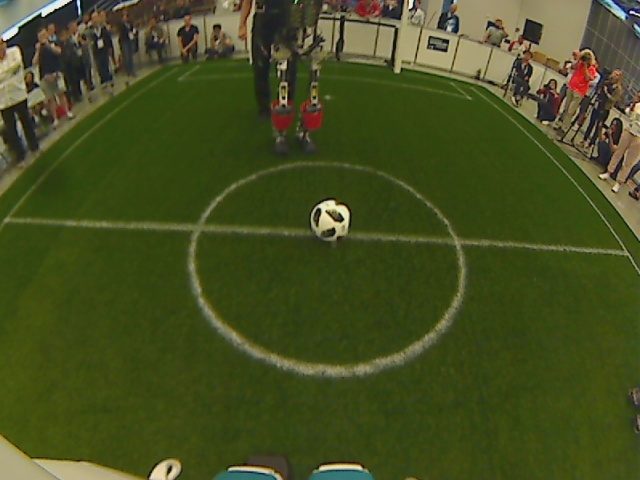ball: (309, 196, 351, 245)
goalpost: (386, 56, 409, 81), (242, 55, 254, 70)
robot: (269, 121, 324, 159)
